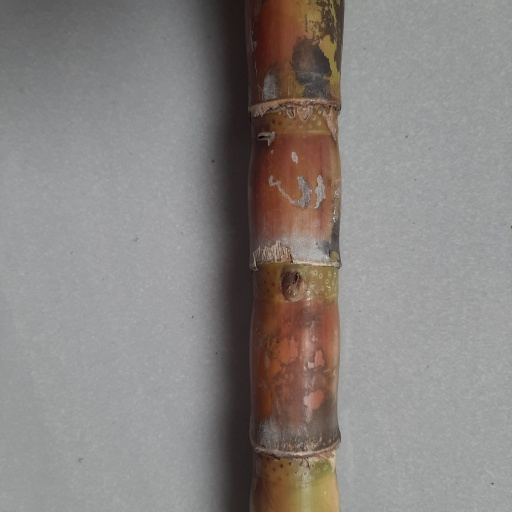Bud: (281, 270, 306, 302)
